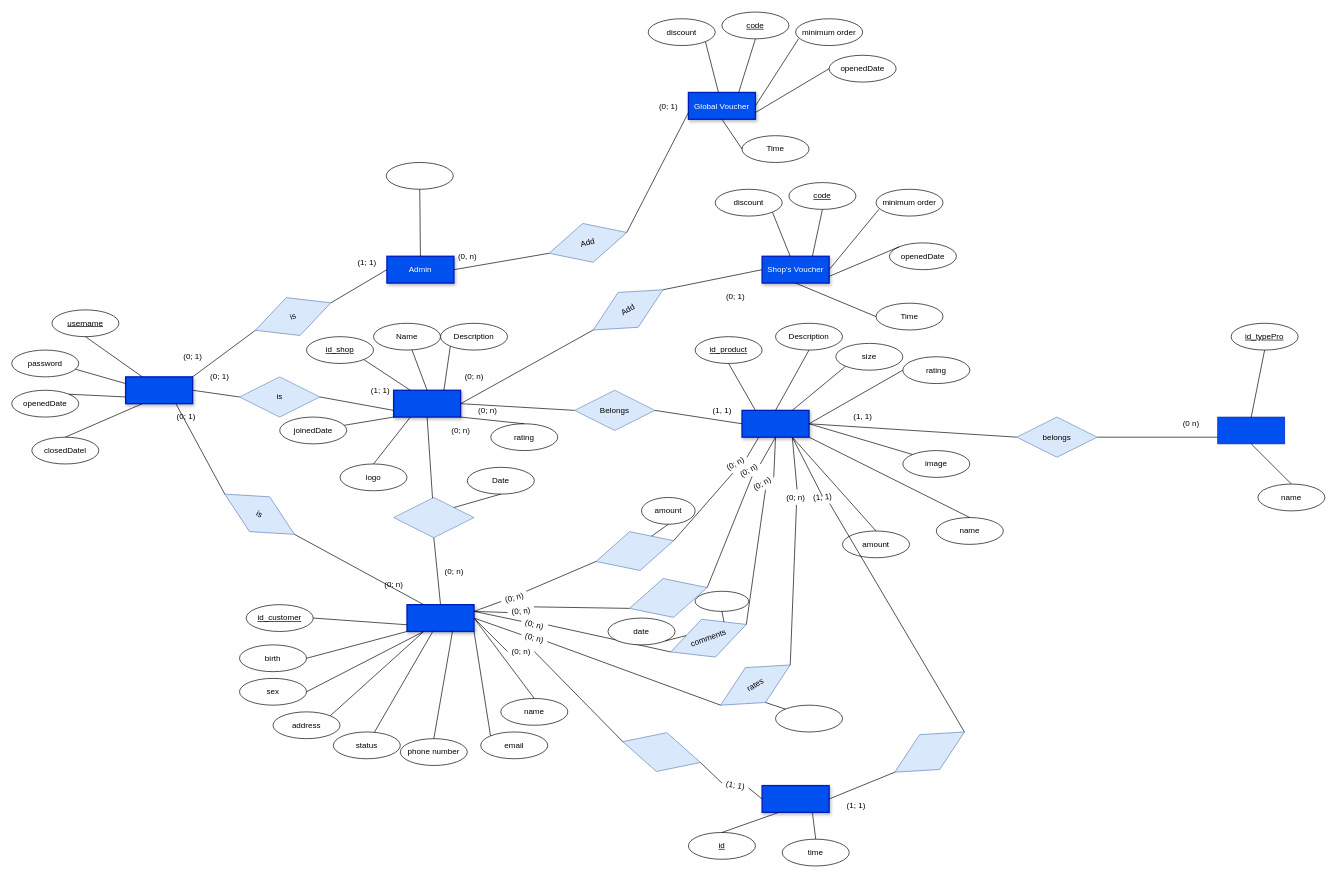
Image size: 1337x878. Some labels were removed from this diagram. The shapes that lost their labels are listed below. From the top down, each one's centre as x and y in pixels, then its label:
At (419,175): "id_admin".
At (159,391): "Account".
At (427,404): "Shop".
At (775,424): "Product".
At (1251,430): "TypeProduct".
At (433,517): "follows".
At (634,551): "Adds to cart".
At (668,597): "Likes".
At (721,601): "content".
At (440,618): "Customer".
At (809,718): "number star".
At (661,752): "create".
At (929,752): "has".
At (795,799): "Bill".
